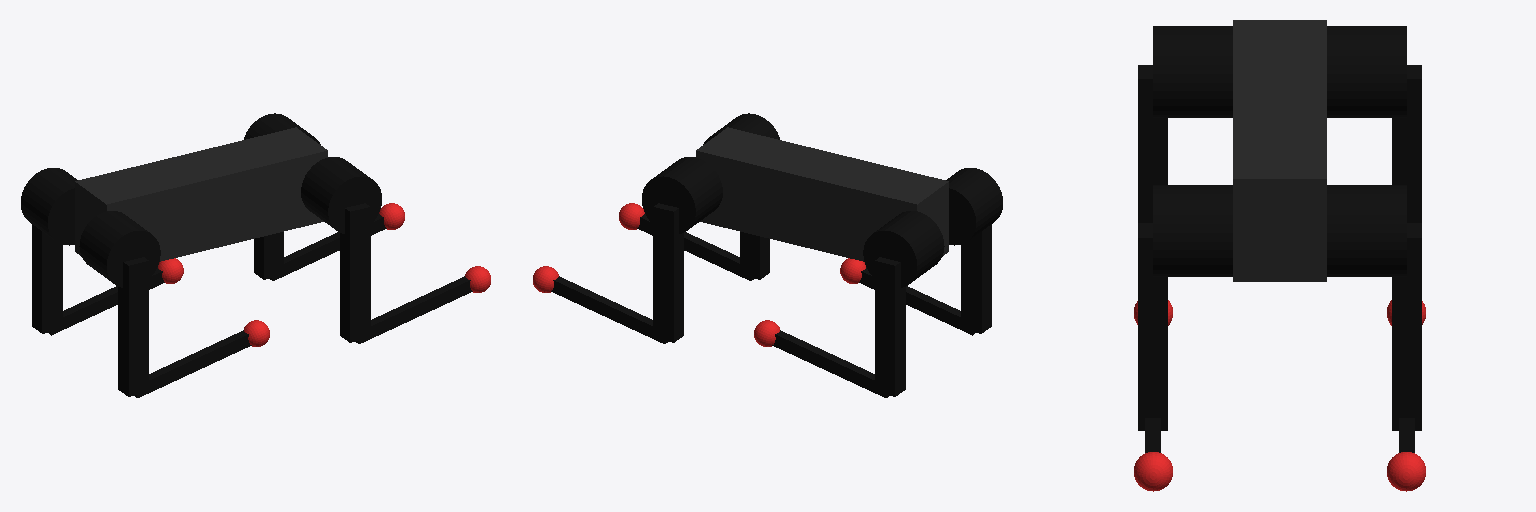
The robot description file, URDF, robot "go1_description":
<?xml version="1.0"?>
<!--
  go1_model.urdf — Unitree Go1 四足骨骼模型（供 dashboard skeleton renderer 用）。
  用 box/cylinder/sphere 搭建，无 mesh 依赖，自包含。关节树结构/命名/旋转轴/连杆尺寸
  按宇树 go1_description 标准（尺寸取自公开 const）。
  关节命名沿用官方约定 <腿>_hip/thigh/calf_joint（腿序 FR/FL/RR/RL）——需与 joints 卡
  上报的关节名一致，渲染器才能按 q_rad 正确摆动。
  轴：hip 绕 X(外摆)，thigh/calf 绕 Y(俯仰)。连杆：thigh=calf=0.213m。
-->
<robot name="go1_description">

  <material name="trunk_color"><color rgba="0.2 0.2 0.2 1"/></material>
  <material name="leg"><color rgba="0.1 0.1 0.1 1"/></material>
  <material name="foot"><color rgba="0.9 0.2 0.2 1"/></material>

  <link name="trunk">
    <inertial><origin xyz="0 0 0"/><mass value="4.713"/><inertia ixx="0.0168" ixy="0" ixz="0" iyy="0.0565" iyz="0" izz="0.0647"/></inertial>
    <visual><origin xyz="0 0 0"/><geometry><box size="0.3762 0.0935 0.114"/></geometry><material name="trunk_color"/></visual>
    <collision><geometry><box size="0.3762 0.0935 0.114"/></geometry></collision>
  </link>

  <!-- ══ FR 右前 ══ -->
  <joint name="FR_hip_joint" type="revolute"><origin xyz="0.1881 -0.04675 0"/><parent link="trunk"/><child link="FR_hip"/><axis xyz="1 0 0"/><limit effort="23.7" velocity="30.1" lower="-1.047" upper="1.047"/></joint>
  <link name="FR_hip"><inertial><mass value="0.696"/><inertia ixx="0.0005" ixy="0" ixz="0" iyy="0.0009" iyz="0" izz="0.0006"/></inertial><visual><origin xyz="0 -0.04 0" rpy="1.5708 0 0"/><geometry><cylinder radius="0.046" length="0.08"/></geometry><material name="leg"/></visual></link>
  <joint name="FR_thigh_joint" type="revolute"><origin xyz="0 -0.08 0"/><parent link="FR_hip"/><child link="FR_thigh"/><axis xyz="0 1 0"/><limit effort="23.7" velocity="30.1" lower="-0.663" upper="2.966"/></joint>
  <link name="FR_thigh"><inertial><origin xyz="0 0 -0.1065"/><mass value="1.013"/><inertia ixx="0.0055" ixy="0" ixz="0" iyy="0.0053" iyz="0" izz="0.0009"/></inertial><visual><origin xyz="0 0 -0.1065"/><geometry><box size="0.035 0.03 0.213"/></geometry><material name="leg"/></visual></link>
  <joint name="FR_calf_joint" type="revolute"><origin xyz="0 0 -0.213"/><parent link="FR_thigh"/><child link="FR_calf"/><axis xyz="0 1 0"/><limit effort="35.5" velocity="20.1" lower="-2.721" upper="-0.837"/></joint>
  <link name="FR_calf"><inertial><origin xyz="0 0 -0.1065"/><mass value="0.166"/><inertia ixx="0.003" ixy="0" ixz="0" iyy="0.003" iyz="0" izz="0.00003"/></inertial><visual><origin xyz="0 0 -0.1065"/><geometry><box size="0.02 0.016 0.213"/></geometry><material name="leg"/></visual></link>
  <joint name="FR_foot_joint" type="fixed"><origin xyz="0 0 -0.213"/><parent link="FR_calf"/><child link="FR_foot"/></joint>
  <link name="FR_foot"><inertial><mass value="0.06"/><inertia ixx="9.6e-06" ixy="0" ixz="0" iyy="9.6e-06" iyz="0" izz="9.6e-06"/></inertial><visual><geometry><sphere radius="0.02"/></geometry><material name="foot"/></visual></link>

  <!-- ══ FL 左前 ══ -->
  <joint name="FL_hip_joint" type="revolute"><origin xyz="0.1881 0.04675 0"/><parent link="trunk"/><child link="FL_hip"/><axis xyz="1 0 0"/><limit effort="23.7" velocity="30.1" lower="-1.047" upper="1.047"/></joint>
  <link name="FL_hip"><inertial><mass value="0.696"/><inertia ixx="0.0005" ixy="0" ixz="0" iyy="0.0009" iyz="0" izz="0.0006"/></inertial><visual><origin xyz="0 0.04 0" rpy="1.5708 0 0"/><geometry><cylinder radius="0.046" length="0.08"/></geometry><material name="leg"/></visual></link>
  <joint name="FL_thigh_joint" type="revolute"><origin xyz="0 0.08 0"/><parent link="FL_hip"/><child link="FL_thigh"/><axis xyz="0 1 0"/><limit effort="23.7" velocity="30.1" lower="-0.663" upper="2.966"/></joint>
  <link name="FL_thigh"><inertial><origin xyz="0 0 -0.1065"/><mass value="1.013"/><inertia ixx="0.0055" ixy="0" ixz="0" iyy="0.0053" iyz="0" izz="0.0009"/></inertial><visual><origin xyz="0 0 -0.1065"/><geometry><box size="0.035 0.03 0.213"/></geometry><material name="leg"/></visual></link>
  <joint name="FL_calf_joint" type="revolute"><origin xyz="0 0 -0.213"/><parent link="FL_thigh"/><child link="FL_calf"/><axis xyz="0 1 0"/><limit effort="35.5" velocity="20.1" lower="-2.721" upper="-0.837"/></joint>
  <link name="FL_calf"><inertial><origin xyz="0 0 -0.1065"/><mass value="0.166"/><inertia ixx="0.003" ixy="0" ixz="0" iyy="0.003" iyz="0" izz="0.00003"/></inertial><visual><origin xyz="0 0 -0.1065"/><geometry><box size="0.02 0.016 0.213"/></geometry><material name="leg"/></visual></link>
  <joint name="FL_foot_joint" type="fixed"><origin xyz="0 0 -0.213"/><parent link="FL_calf"/><child link="FL_foot"/></joint>
  <link name="FL_foot"><inertial><mass value="0.06"/><inertia ixx="9.6e-06" ixy="0" ixz="0" iyy="9.6e-06" iyz="0" izz="9.6e-06"/></inertial><visual><geometry><sphere radius="0.02"/></geometry><material name="foot"/></visual></link>

  <!-- ══ RR 右后 ══ -->
  <joint name="RR_hip_joint" type="revolute"><origin xyz="-0.1881 -0.04675 0"/><parent link="trunk"/><child link="RR_hip"/><axis xyz="1 0 0"/><limit effort="23.7" velocity="30.1" lower="-1.047" upper="1.047"/></joint>
  <link name="RR_hip"><inertial><mass value="0.696"/><inertia ixx="0.0005" ixy="0" ixz="0" iyy="0.0009" iyz="0" izz="0.0006"/></inertial><visual><origin xyz="0 -0.04 0" rpy="1.5708 0 0"/><geometry><cylinder radius="0.046" length="0.08"/></geometry><material name="leg"/></visual></link>
  <joint name="RR_thigh_joint" type="revolute"><origin xyz="0 -0.08 0"/><parent link="RR_hip"/><child link="RR_thigh"/><axis xyz="0 1 0"/><limit effort="23.7" velocity="30.1" lower="-0.663" upper="2.966"/></joint>
  <link name="RR_thigh"><inertial><origin xyz="0 0 -0.1065"/><mass value="1.013"/><inertia ixx="0.0055" ixy="0" ixz="0" iyy="0.0053" iyz="0" izz="0.0009"/></inertial><visual><origin xyz="0 0 -0.1065"/><geometry><box size="0.035 0.03 0.213"/></geometry><material name="leg"/></visual></link>
  <joint name="RR_calf_joint" type="revolute"><origin xyz="0 0 -0.213"/><parent link="RR_thigh"/><child link="RR_calf"/><axis xyz="0 1 0"/><limit effort="35.5" velocity="20.1" lower="-2.721" upper="-0.837"/></joint>
  <link name="RR_calf"><inertial><origin xyz="0 0 -0.1065"/><mass value="0.166"/><inertia ixx="0.003" ixy="0" ixz="0" iyy="0.003" iyz="0" izz="0.00003"/></inertial><visual><origin xyz="0 0 -0.1065"/><geometry><box size="0.02 0.016 0.213"/></geometry><material name="leg"/></visual></link>
  <joint name="RR_foot_joint" type="fixed"><origin xyz="0 0 -0.213"/><parent link="RR_calf"/><child link="RR_foot"/></joint>
  <link name="RR_foot"><inertial><mass value="0.06"/><inertia ixx="9.6e-06" ixy="0" ixz="0" iyy="9.6e-06" iyz="0" izz="9.6e-06"/></inertial><visual><geometry><sphere radius="0.02"/></geometry><material name="foot"/></visual></link>

  <!-- ══ RL 左后 ══ -->
  <joint name="RL_hip_joint" type="revolute"><origin xyz="-0.1881 0.04675 0"/><parent link="trunk"/><child link="RL_hip"/><axis xyz="1 0 0"/><limit effort="23.7" velocity="30.1" lower="-1.047" upper="1.047"/></joint>
  <link name="RL_hip"><inertial><mass value="0.696"/><inertia ixx="0.0005" ixy="0" ixz="0" iyy="0.0009" iyz="0" izz="0.0006"/></inertial><visual><origin xyz="0 0.04 0" rpy="1.5708 0 0"/><geometry><cylinder radius="0.046" length="0.08"/></geometry><material name="leg"/></visual></link>
  <joint name="RL_thigh_joint" type="revolute"><origin xyz="0 0.08 0"/><parent link="RL_hip"/><child link="RL_thigh"/><axis xyz="0 1 0"/><limit effort="23.7" velocity="30.1" lower="-0.663" upper="2.966"/></joint>
  <link name="RL_thigh"><inertial><origin xyz="0 0 -0.1065"/><mass value="1.013"/><inertia ixx="0.0055" ixy="0" ixz="0" iyy="0.0053" iyz="0" izz="0.0009"/></inertial><visual><origin xyz="0 0 -0.1065"/><geometry><box size="0.035 0.03 0.213"/></geometry><material name="leg"/></visual></link>
  <joint name="RL_calf_joint" type="revolute"><origin xyz="0 0 -0.213"/><parent link="RL_thigh"/><child link="RL_calf"/><axis xyz="0 1 0"/><limit effort="35.5" velocity="20.1" lower="-2.721" upper="-0.837"/></joint>
  <link name="RL_calf"><inertial><origin xyz="0 0 -0.1065"/><mass value="0.166"/><inertia ixx="0.003" ixy="0" ixz="0" iyy="0.003" iyz="0" izz="0.00003"/></inertial><visual><origin xyz="0 0 -0.1065"/><geometry><box size="0.02 0.016 0.213"/></geometry><material name="leg"/></visual></link>
  <joint name="RL_foot_joint" type="fixed"><origin xyz="0 0 -0.213"/><parent link="RL_calf"/><child link="RL_foot"/></joint>
  <link name="RL_foot"><inertial><mass value="0.06"/><inertia ixx="9.6e-06" ixy="0" ixz="0" iyy="9.6e-06" iyz="0" izz="9.6e-06"/></inertial><visual><geometry><sphere radius="0.02"/></geometry><material name="foot"/></visual></link>

</robot>

--- Facts derived from the render (not from the file) ---
The picture shows the robot from 3 angles, left to right: view 1: azimuth 30°, elevation 25°; view 2: azimuth 150°, elevation 25°; view 3: azimuth 270°, elevation 25°; orthographic projection.
Model go1_description with 17 links and 16 joints (12 revolute, 4 fixed), rooted at trunk, posed all joints at 0 but 4 set to mid-range because 0 is outside their limits (FR_calf_joint = -1.78, FL_calf_joint = -1.78, RR_calf_joint = -1.78, RL_calf_joint = -1.78).
Links seen in each view (by area): view 1: trunk, RR_thigh, FR_thigh, FR_hip, RR_hip, RL_hip, RL_thigh, RR_calf, FR_calf, FL_calf, RL_calf, FL_thigh (+1 smaller); view 2: trunk, RL_thigh, FL_thigh, FL_hip, RL_hip, RR_hip, RR_thigh, RL_calf, FL_calf, FR_calf, RR_calf, FR_thigh (+1 smaller); view 3: trunk, FR_hip, FL_hip, RR_hip, RL_hip, FR_thigh, FL_thigh, RR_thigh, RL_thigh, FR_foot, FL_foot, FR_calf (+1 smaller).
Boxes of the visible links, box(x1,y1,x2,y2) form: trunk: box(75, 127, 327, 261); RR_thigh: box(118, 257, 148, 396); FR_thigh: box(340, 203, 370, 342); FR_hip: box(301, 157, 381, 233); RR_hip: box(79, 211, 160, 287); RL_hip: box(21, 168, 77, 245); RL_thigh: box(32, 224, 62, 333); RR_calf: box(135, 330, 251, 397); FR_calf: box(356, 276, 472, 343); FL_calf: box(270, 214, 386, 280); RL_calf: box(49, 267, 164, 335); FL_thigh: box(254, 232, 283, 279); trunk: box(696, 127, 948, 261); RL_thigh: box(875, 257, 905, 396); FL_thigh: box(653, 203, 683, 342); FL_hip: box(642, 157, 722, 233); RL_hip: box(863, 211, 944, 287); RR_hip: box(946, 168, 1002, 245); RR_thigh: box(961, 224, 991, 333); RL_calf: box(772, 330, 888, 397); FL_calf: box(551, 276, 667, 343); FR_calf: box(637, 214, 753, 280); RR_calf: box(859, 267, 974, 335); FR_thigh: box(740, 232, 769, 279); trunk: box(1233, 20, 1326, 281); FR_hip: box(1153, 185, 1232, 276); FL_hip: box(1327, 185, 1406, 276); RR_hip: box(1153, 26, 1232, 117); RL_hip: box(1327, 26, 1406, 117); FR_thigh: box(1138, 223, 1167, 430); FL_thigh: box(1392, 223, 1421, 430); RR_thigh: box(1138, 65, 1167, 222); RL_thigh: box(1392, 65, 1421, 222); FR_foot: box(1134, 452, 1172, 491); FL_foot: box(1387, 452, 1425, 491); FR_calf: box(1145, 418, 1160, 452).
Bounding box of the posed robot: 0.6506 × 0.2935 × 0.2798 m (x, y, z).
Geometry: primitives only (box / cylinder / sphere), no mesh files.
